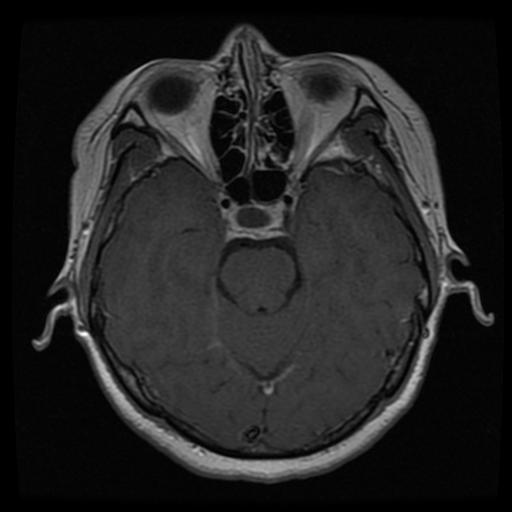Pituirity_tumour: (223, 198, 284, 238)
